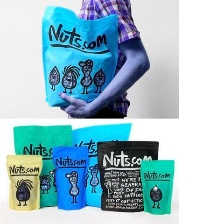snack: (35, 1, 123, 111), (66, 118, 135, 211), (8, 120, 75, 210), (91, 136, 162, 216), (48, 142, 91, 213), (2, 151, 45, 213), (135, 154, 177, 217)
